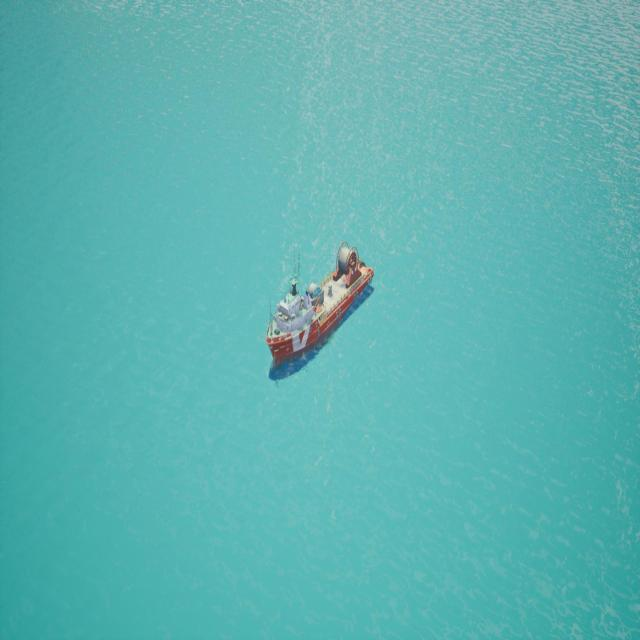tug boat: (219, 227, 410, 372)
